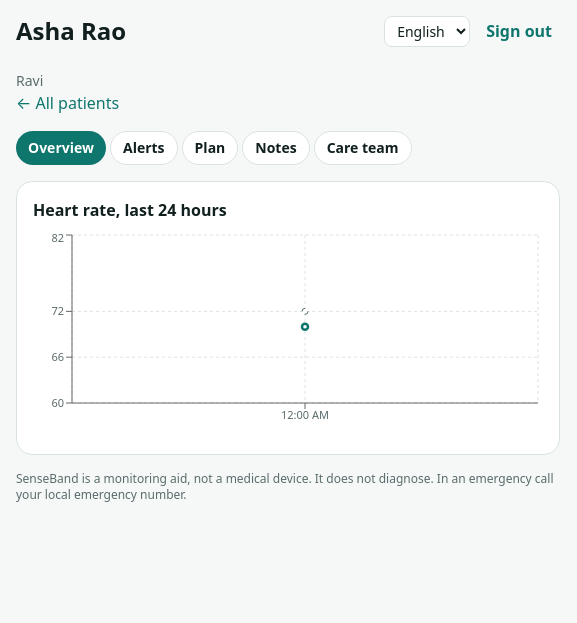
cloud screens › a caregiver sees the plan but cannot edit it or write notes
What coordinates should you click on to do the following:
click the tab "Plan"
I would click on:
 (210, 148)
Its box is [182, 131, 238, 165].
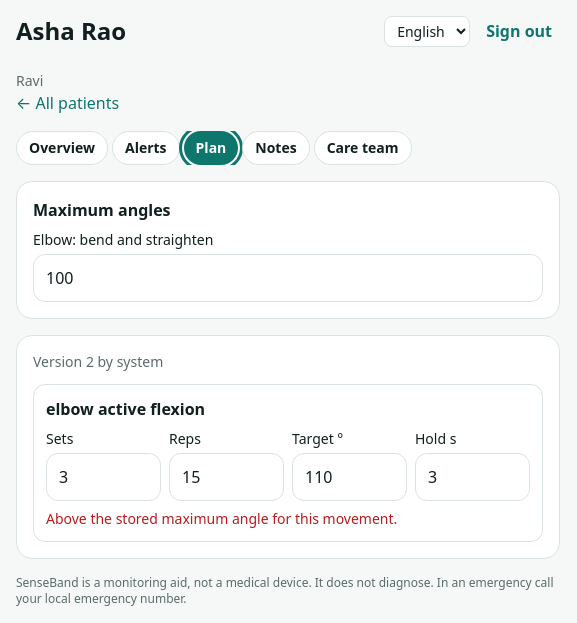
Check: the field labelled "Target °" is disabled, box [292, 453, 407, 501]
What coordinates should you click on to do the following:
click the tab "Notes"
I would click on:
 (276, 148)
Its box is [242, 131, 310, 165].
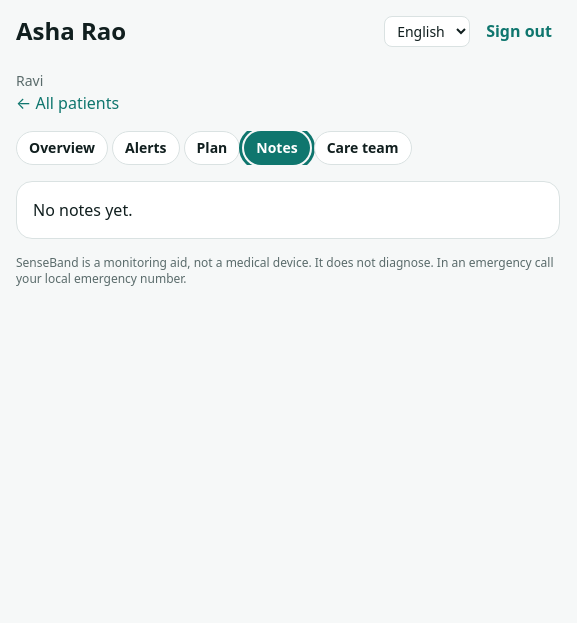
Check: the text "No notes yet." is shown, box [16, 181, 560, 239]
